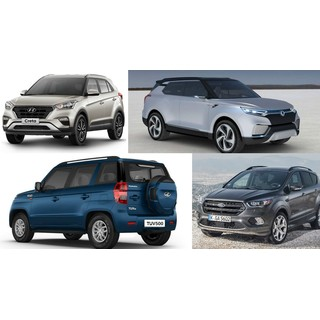car: (9, 157, 178, 250), (142, 77, 299, 153), (196, 164, 320, 244), (1, 71, 125, 147)
